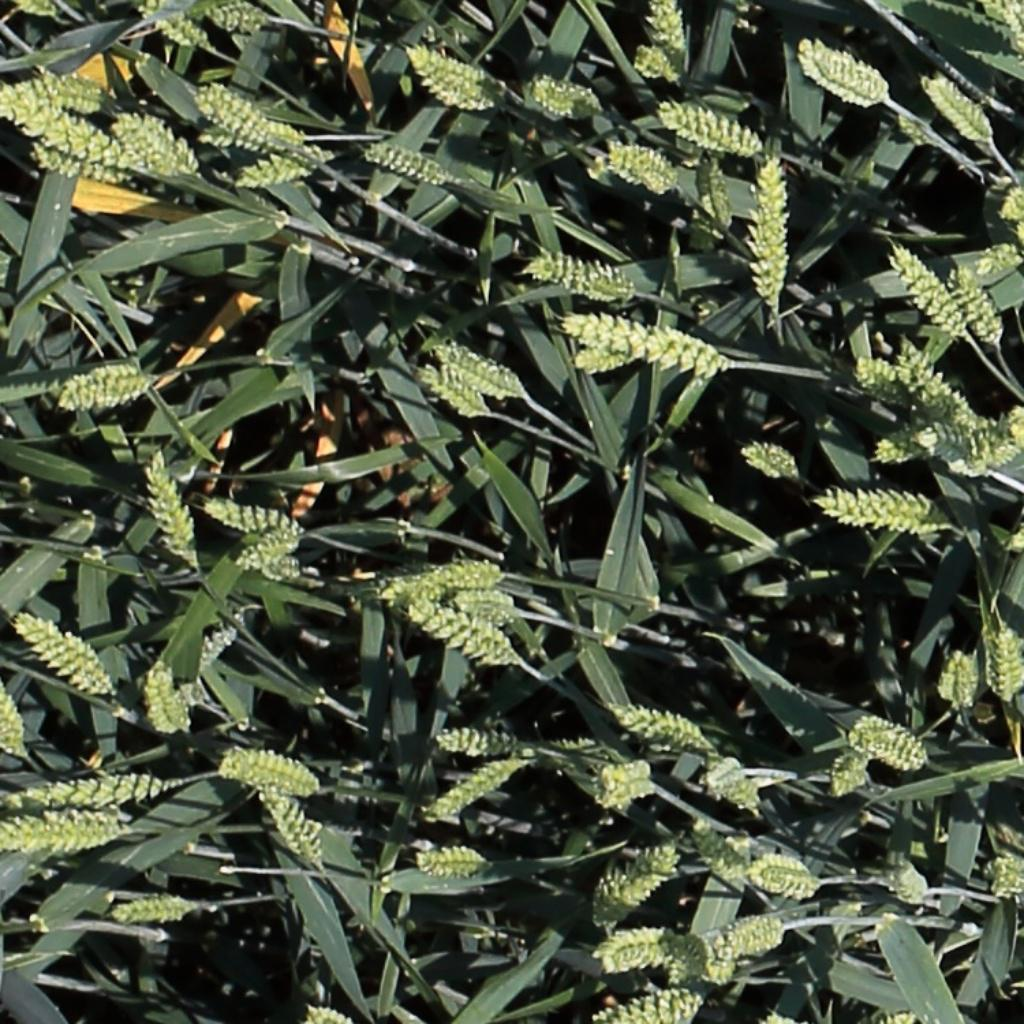0-0: (0, 81, 128, 156), (566, 314, 730, 370), (15, 614, 110, 697), (890, 241, 969, 339), (802, 483, 942, 533), (888, 343, 972, 424), (143, 449, 199, 570), (10, 767, 166, 809), (0, 800, 120, 854), (255, 782, 326, 873), (203, 80, 298, 145), (580, 920, 688, 977), (406, 546, 504, 608), (595, 856, 679, 927), (660, 99, 765, 154), (216, 741, 320, 794), (55, 356, 151, 412), (956, 265, 1014, 356), (432, 761, 522, 819), (948, 407, 1024, 473), (924, 73, 995, 143), (409, 604, 517, 650), (689, 817, 753, 892), (114, 113, 187, 176), (881, 415, 976, 463), (802, 46, 887, 99), (611, 704, 711, 749), (435, 344, 522, 394), (28, 141, 129, 184), (26, 65, 111, 116), (531, 253, 636, 294), (757, 152, 785, 304), (414, 52, 500, 99), (684, 924, 744, 991), (365, 140, 454, 182), (148, 660, 192, 742), (419, 365, 488, 417), (850, 724, 928, 768), (704, 759, 764, 815), (607, 141, 678, 188), (141, 4, 210, 50), (819, 751, 876, 806), (203, 501, 299, 533), (595, 760, 663, 805), (236, 528, 304, 572), (452, 590, 518, 634), (192, 619, 241, 678), (836, 351, 897, 398), (649, 0, 693, 65), (703, 148, 737, 232), (598, 996, 705, 1021), (197, 120, 303, 145), (0, 660, 25, 759), (993, 621, 1021, 707), (742, 445, 805, 483), (891, 857, 933, 913), (748, 868, 823, 898), (974, 234, 1024, 278), (419, 841, 489, 871), (434, 734, 531, 755), (985, 0, 1022, 54), (196, 2, 267, 30), (531, 83, 600, 110), (634, 43, 682, 80), (953, 647, 978, 716), (754, 999, 820, 1024), (729, 922, 785, 951), (113, 903, 193, 922), (237, 161, 312, 181), (985, 861, 1022, 898), (999, 181, 1024, 234), (870, 1007, 937, 1024), (303, 1004, 349, 1024), (17, 0, 61, 17), (756, 853, 807, 867)
